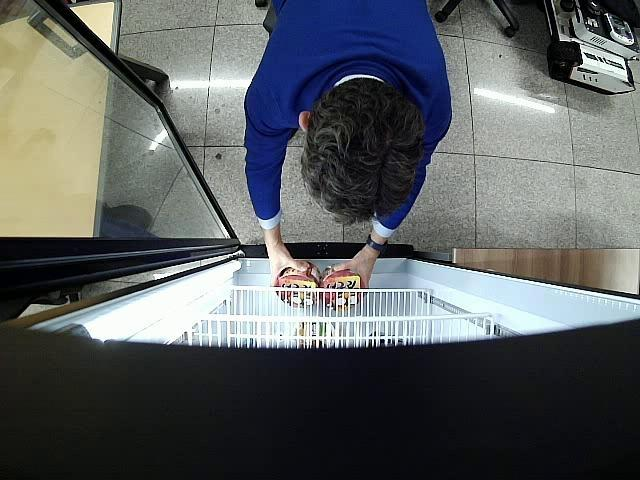05_nuguri_L: (276, 260, 322, 308), (320, 267, 364, 310)
